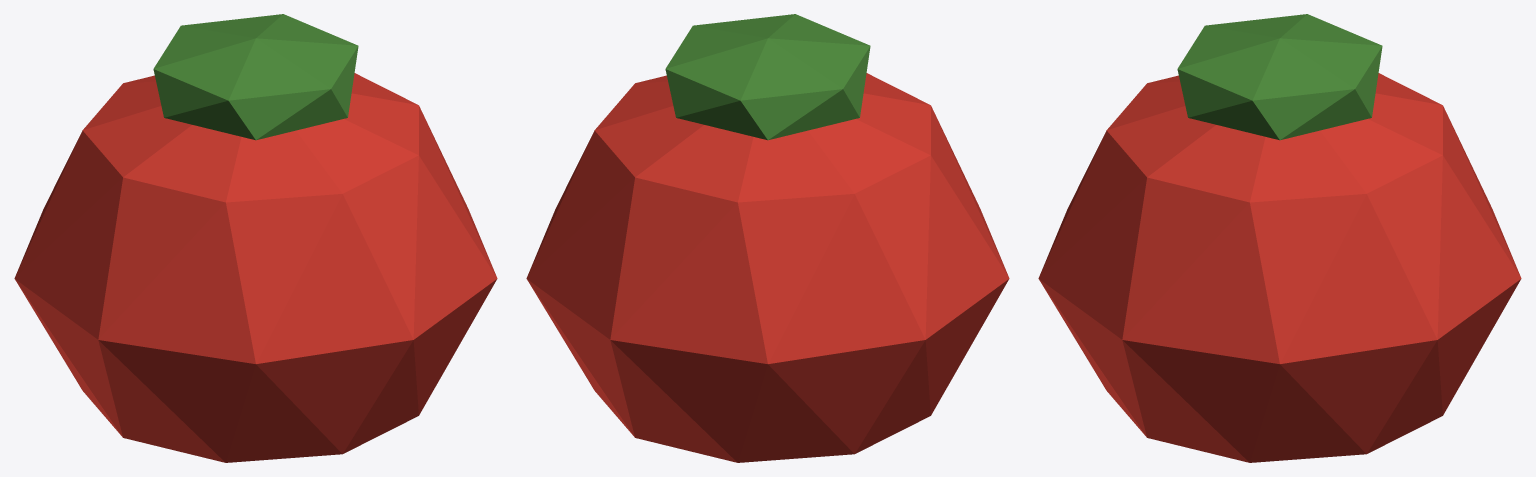
Rendered from drop_tomato.glb.
The picture shows the model from 3 angles, left to right: view 1: azimuth 30°, elevation 25°; view 2: azimuth 150°, elevation 25°; view 3: azimuth 270°, elevation 25°; orthographic projection.
Parts seen in each view (by area): view 1: drop_tomato; view 2: drop_tomato; view 3: drop_tomato.
Boxes of the visible parts, x1=… form: drop_tomato: x1=14, y1=14, x2=497, y2=462; drop_tomato: x1=526, y1=14, x2=1009, y2=462; drop_tomato: x1=1038, y1=14, x2=1521, y2=462.
Size of the model in its own units: 0.1358 by 0.128 by 0.1379.
